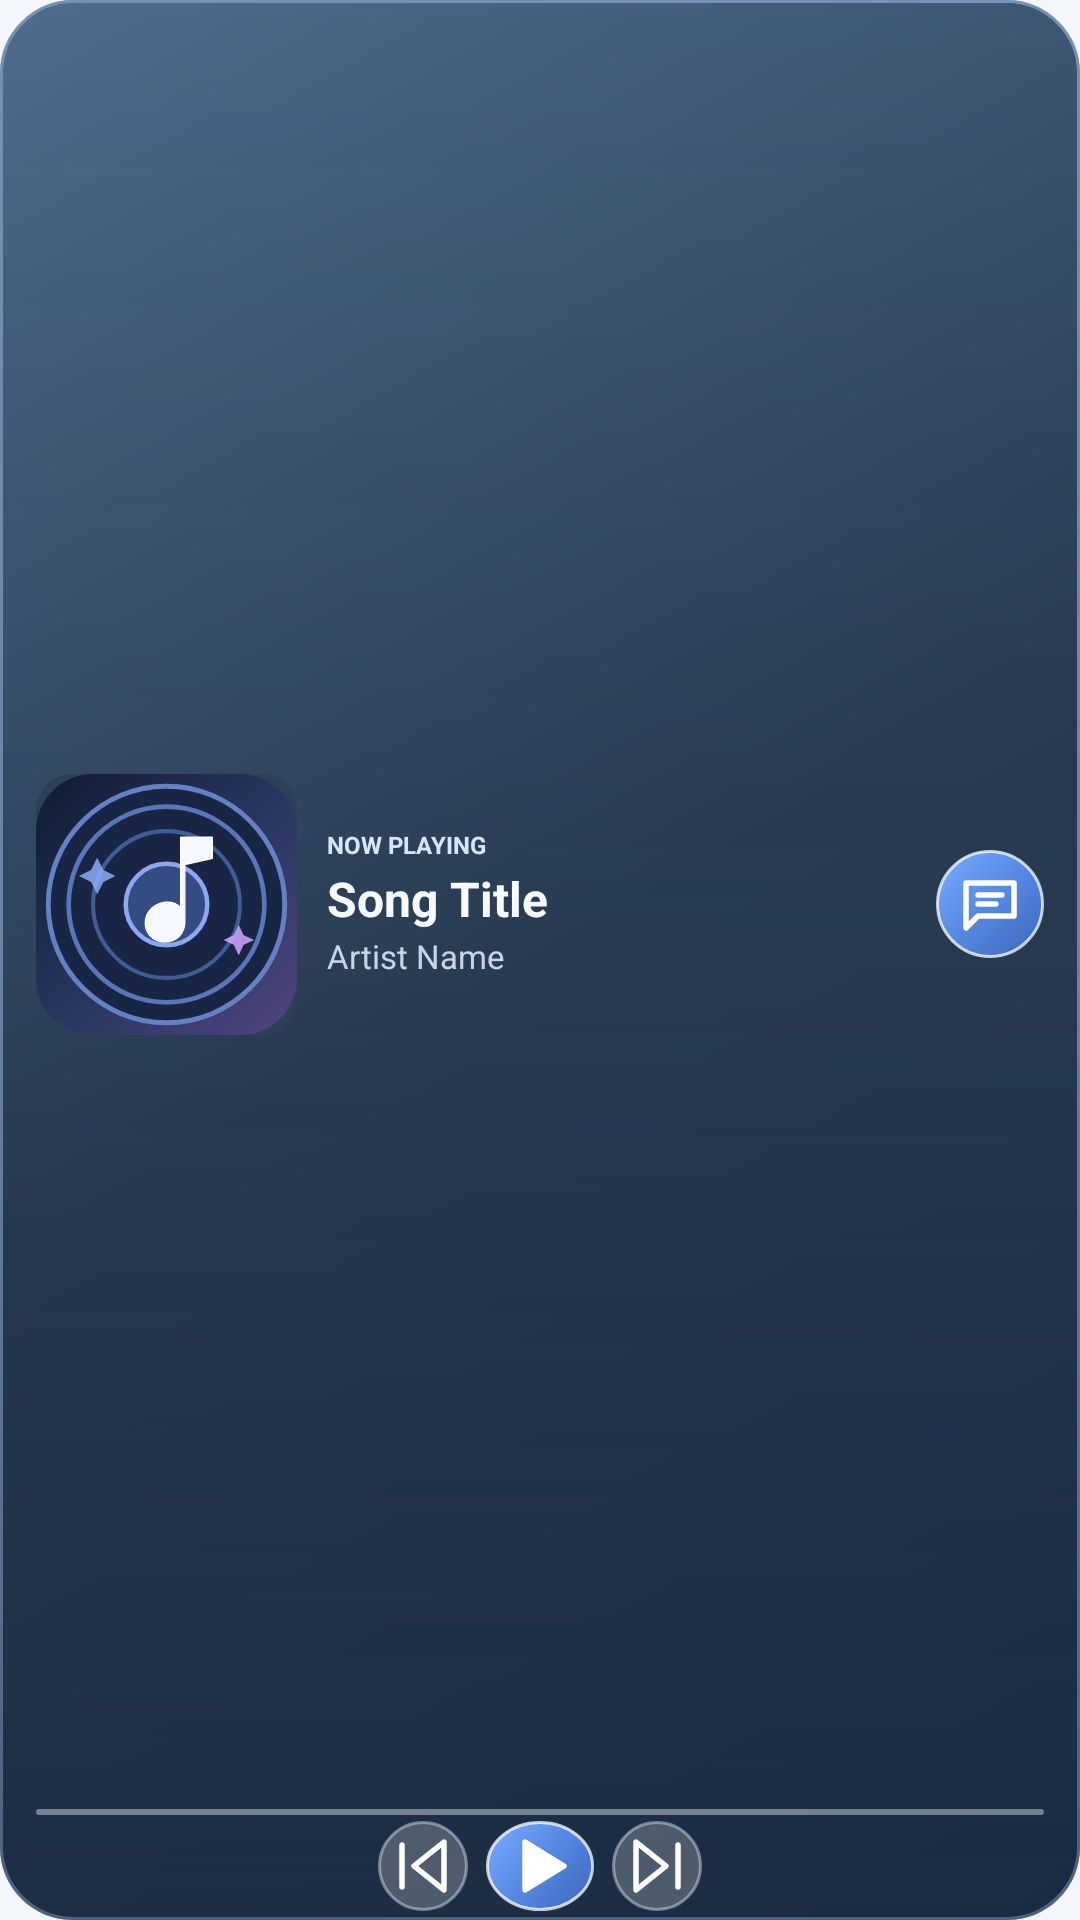

Where to tap for icons on this 1080px x 1920px app screen, as (x=x, y=y):
Next: (x=657, y=1866)
Play or Pause: (x=540, y=1866)
Previous: (x=423, y=1866)
Toggle lyrics: (x=990, y=904)
widget idle art: (x=166, y=904)
